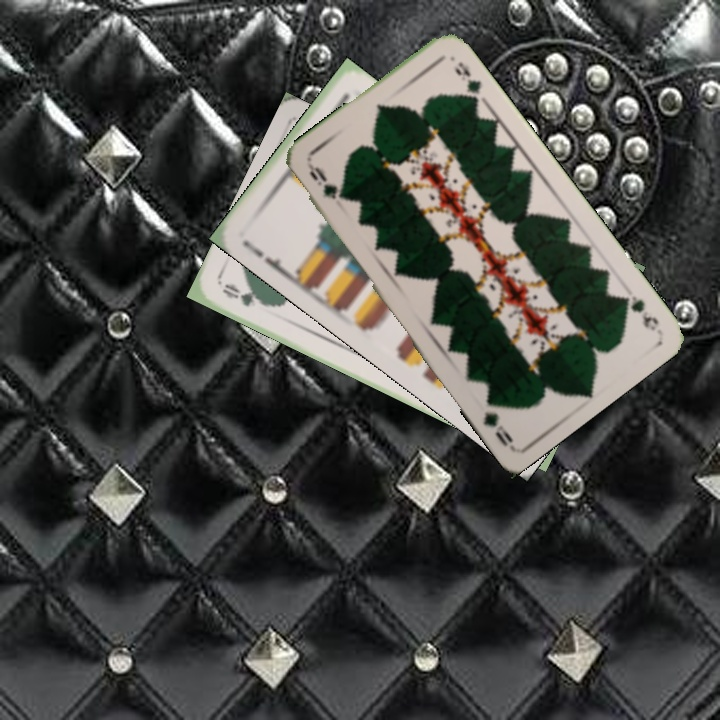E7: (238, 236, 289, 277)
G9: (615, 291, 662, 334), (305, 160, 339, 202)
GO: (218, 279, 275, 310)
